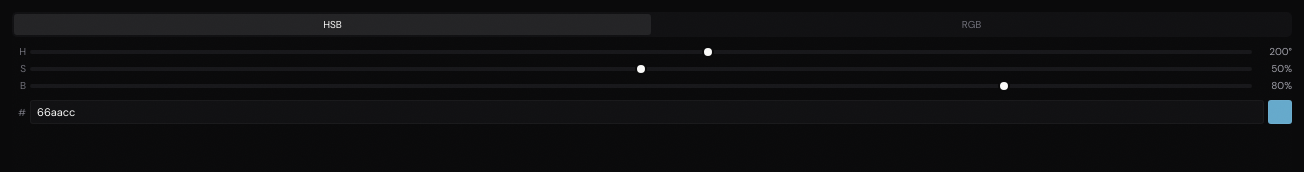
Test: ValueSliders › shows RGB sliders when RGB mode selected
The image size is (1304, 172).
Click the button "RGB" at (972, 24), box [653,14,1290,35]
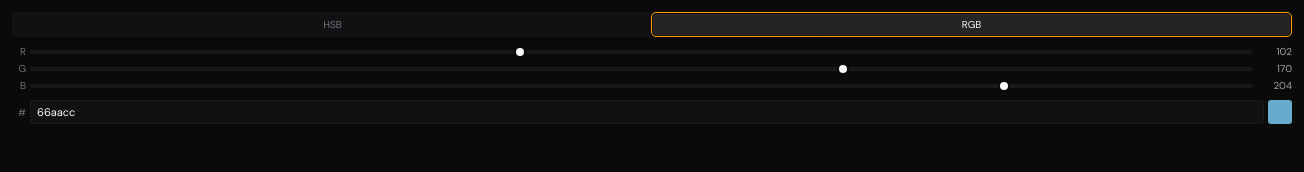
Expected: the slider named "Blue" is shown, [30,84,1252,88]
Expected: the slider named "Red" is shown, [30,50,1252,54]
Expected: the slider named "Green" is shown, [30,66,1252,70]
